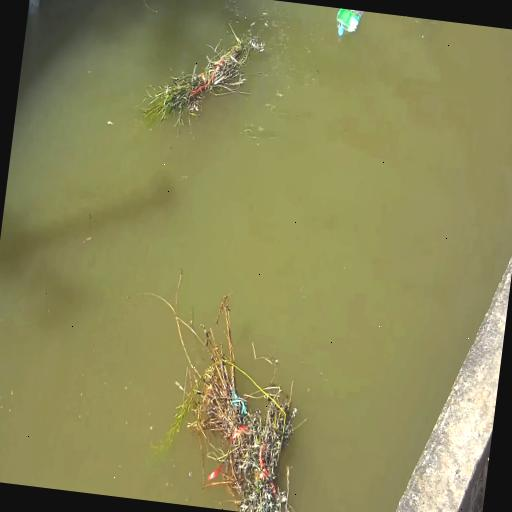plastic: (337, 8, 363, 36)
twig: (143, 271, 297, 512), (143, 27, 264, 124)
